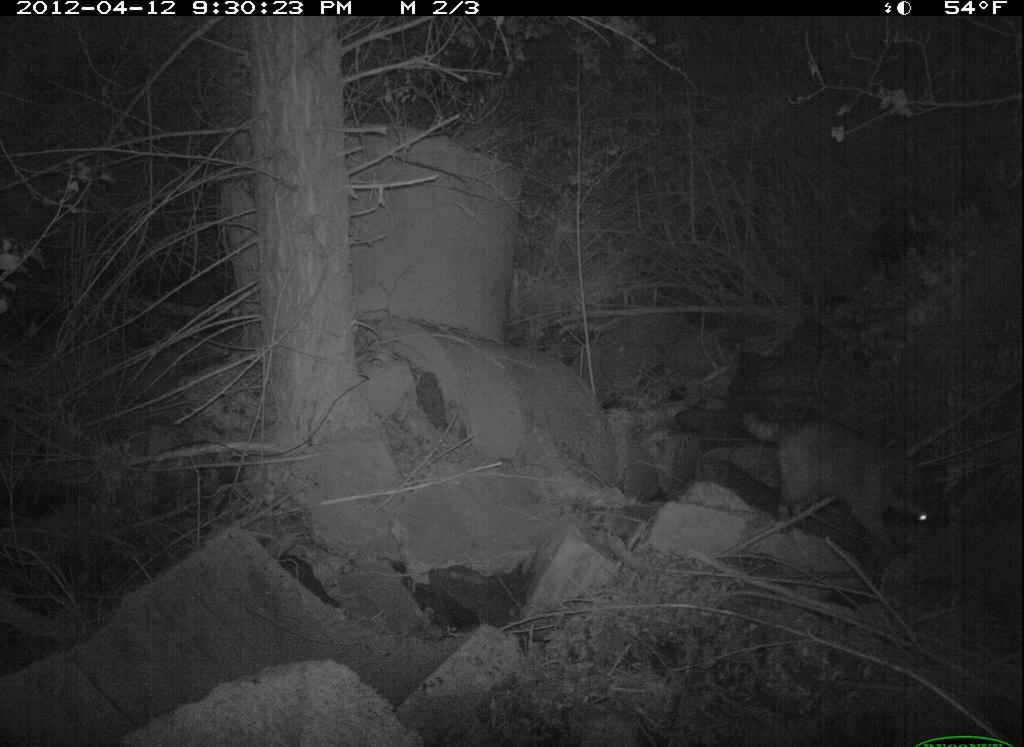raccoon: (725, 390, 977, 563)
